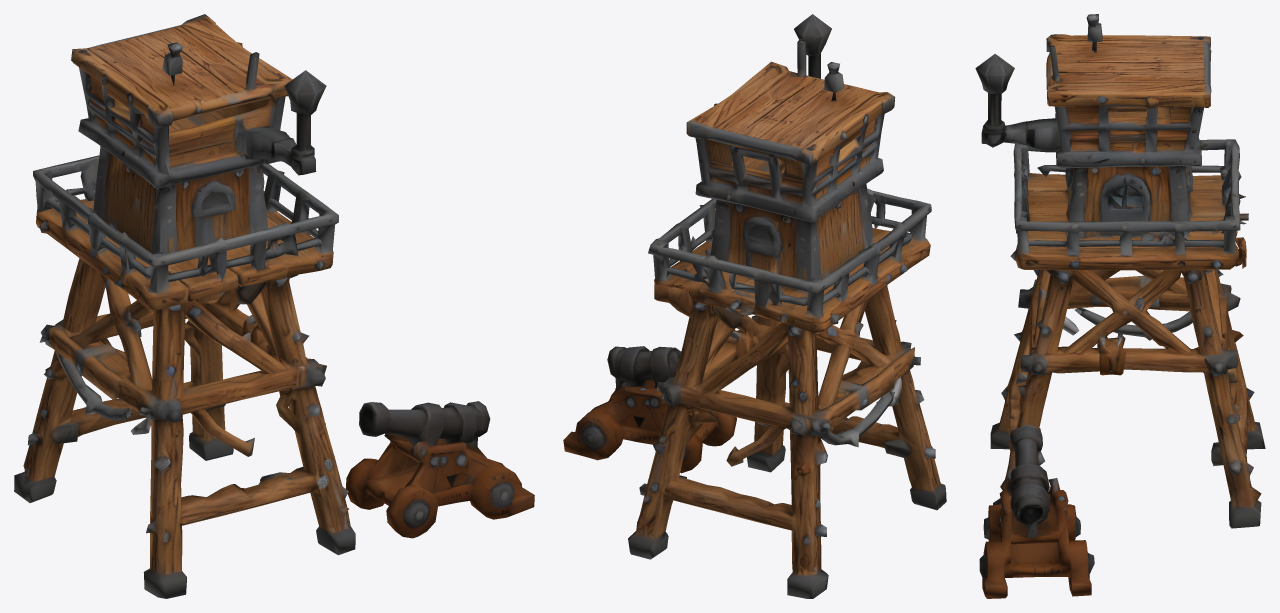
File: bld_outpost.glb
3 views of the same model, side by side, from view 1: azimuth 30°, elevation 25°; view 2: azimuth 150°, elevation 25°; view 3: azimuth 270°, elevation 25° (orthographic). The views are drawn at different scales.
Visible parts, largest first — view 1: tripo_node_7fddb19e-532f-4bd6-8daa-8cf7eb2f8540; view 2: tripo_node_7fddb19e-532f-4bd6-8daa-8cf7eb2f8540; view 3: tripo_node_7fddb19e-532f-4bd6-8daa-8cf7eb2f8540.
Part boxes in pixels (x1,y1,x2,y2): tripo_node_7fddb19e-532f-4bd6-8daa-8cf7eb2f8540: [14, 14, 534, 598]; tripo_node_7fddb19e-532f-4bd6-8daa-8cf7eb2f8540: [563, 14, 946, 598]; tripo_node_7fddb19e-532f-4bd6-8daa-8cf7eb2f8540: [975, 14, 1265, 598].
Size of the model in its own units: 0.7856 by 0.9996 by 0.5797.
Materials: 1 (1 with a texture image).
